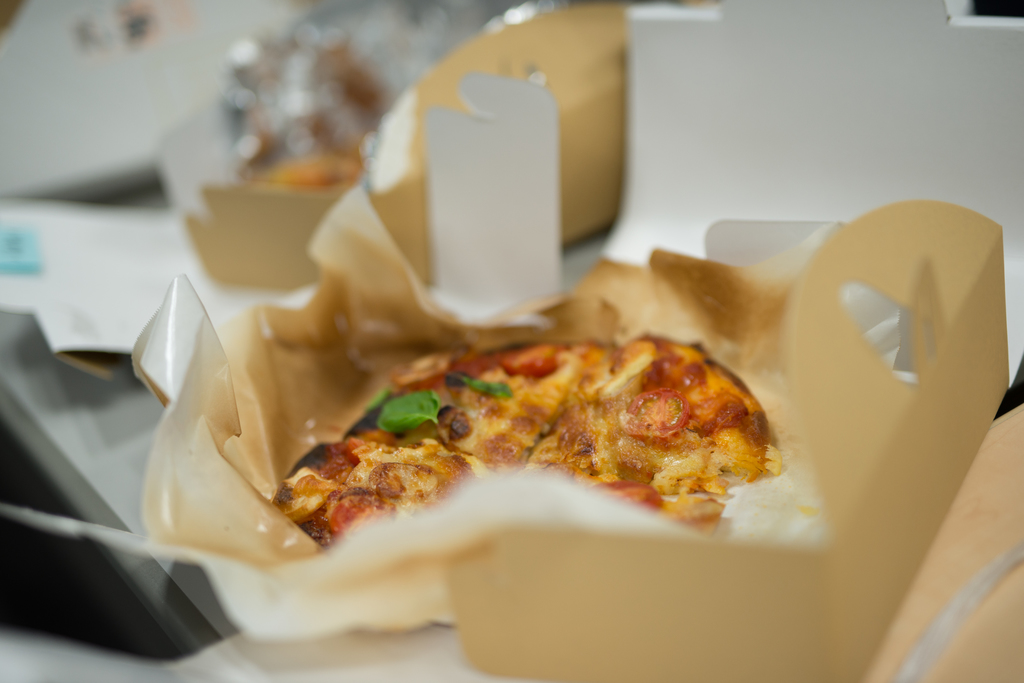Pizza: (248, 332, 798, 556)
